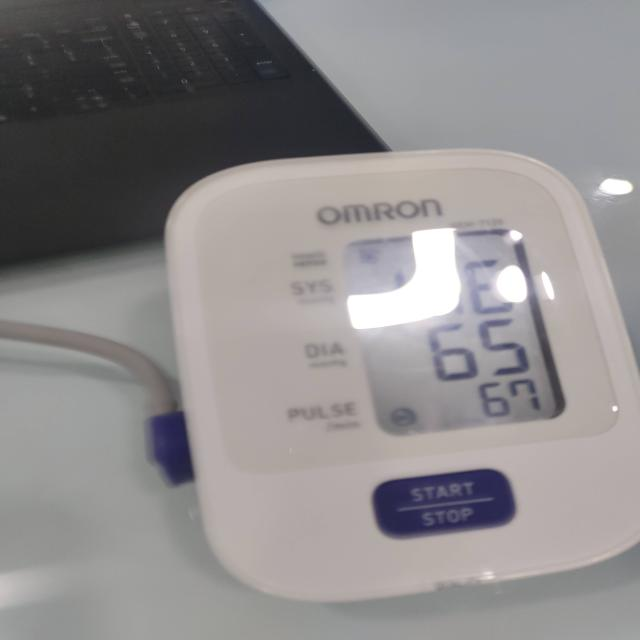bp: (163, 149, 640, 606)
